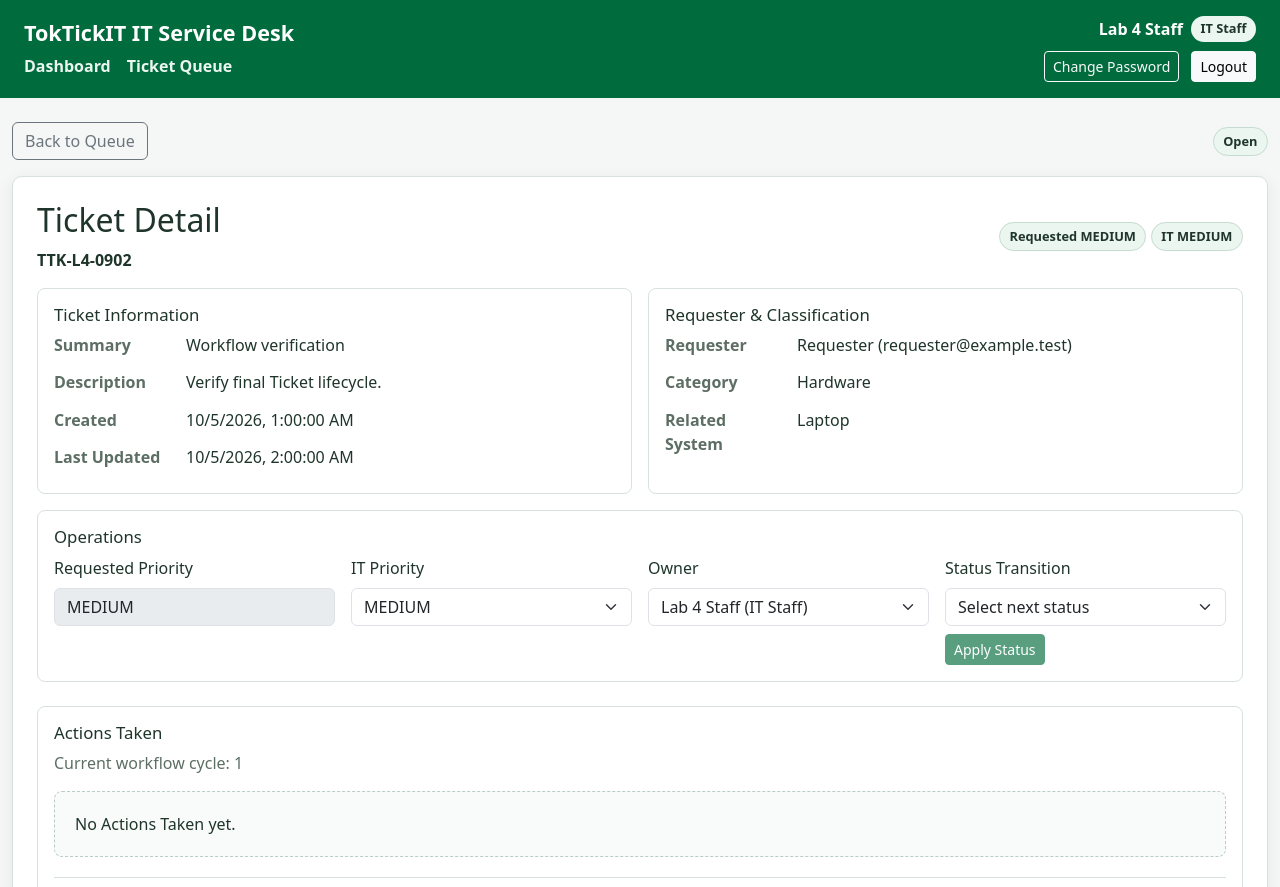
Test: Lab 4 final Ticket workflow UI › UI-04 gives IT_STAFF permitted transitions and sends expectedTicketVersion
This screenshot has width=1280, height=887.
Select "IN PROGRESS" in the dropdown labelled "Status Transition". click: [1086, 607]
box: [945,588,1226,626]
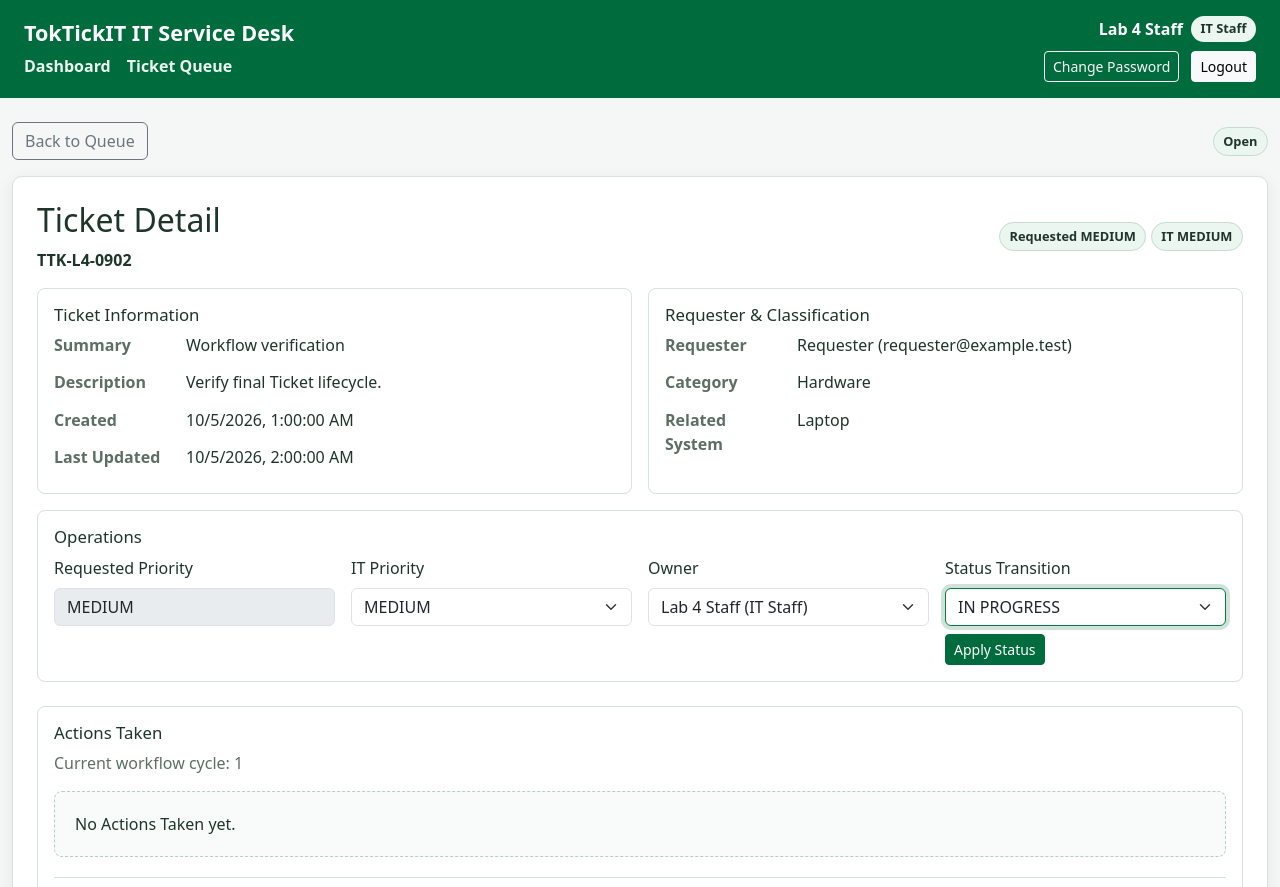
Click the button "Apply Status". click: [995, 649]
box: [945,634,1045,665]
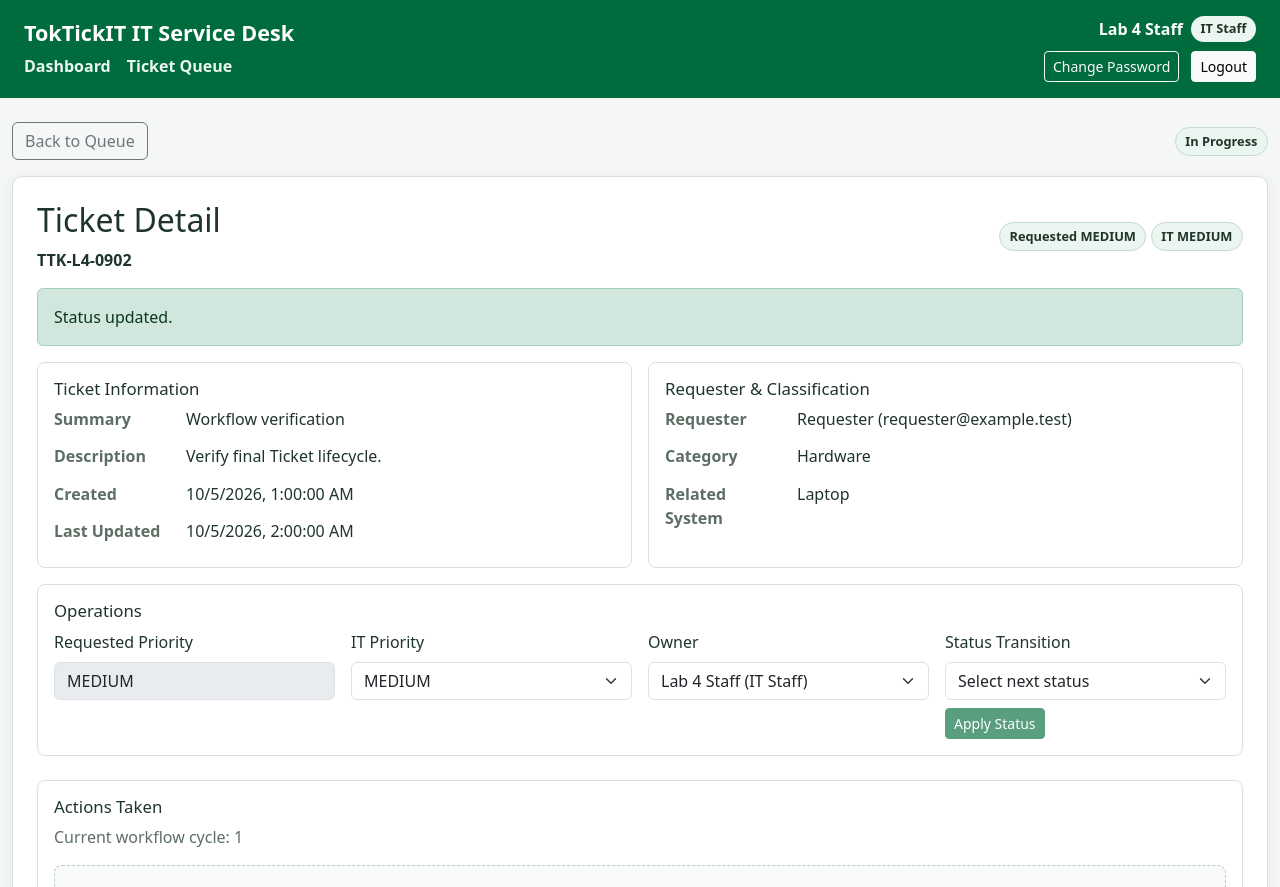
Now the text "Status updated." is shown, box [37,288,1243,346]
